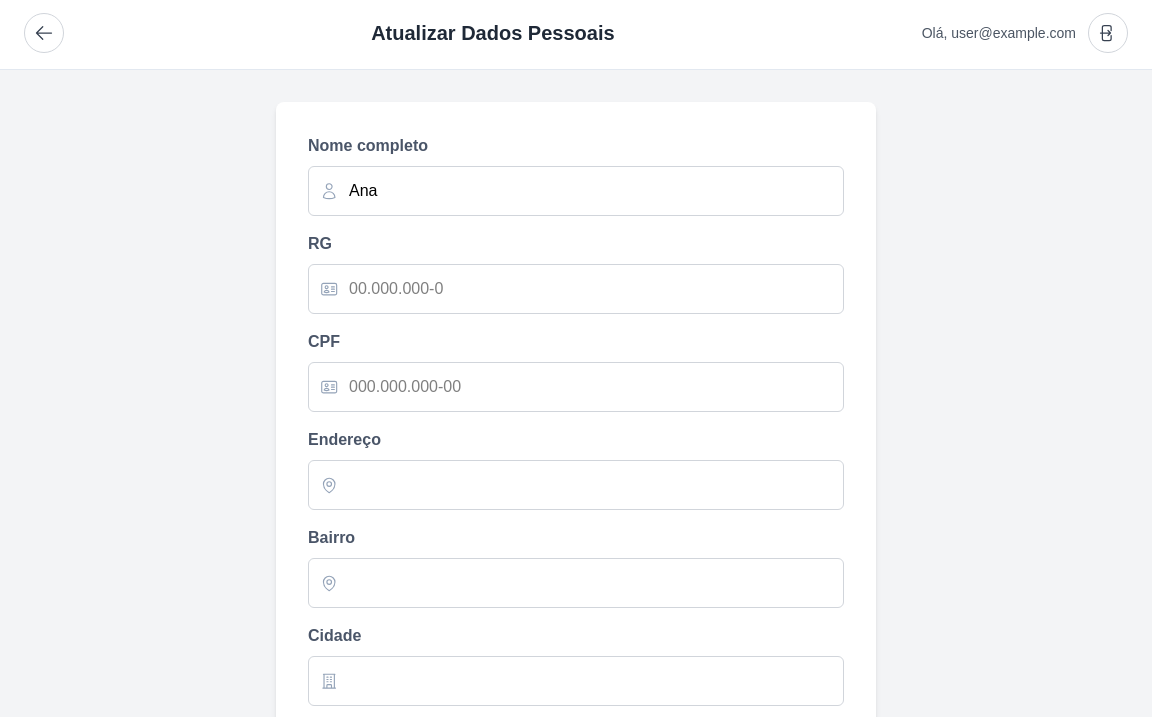
UpdatePage › submits the updated record
Step 1. Replace the text in the field labelled "Nome completo" with "Ana Souza" → (576, 191), box x1=308 y1=166 x2=844 y2=216
(page scrolled)
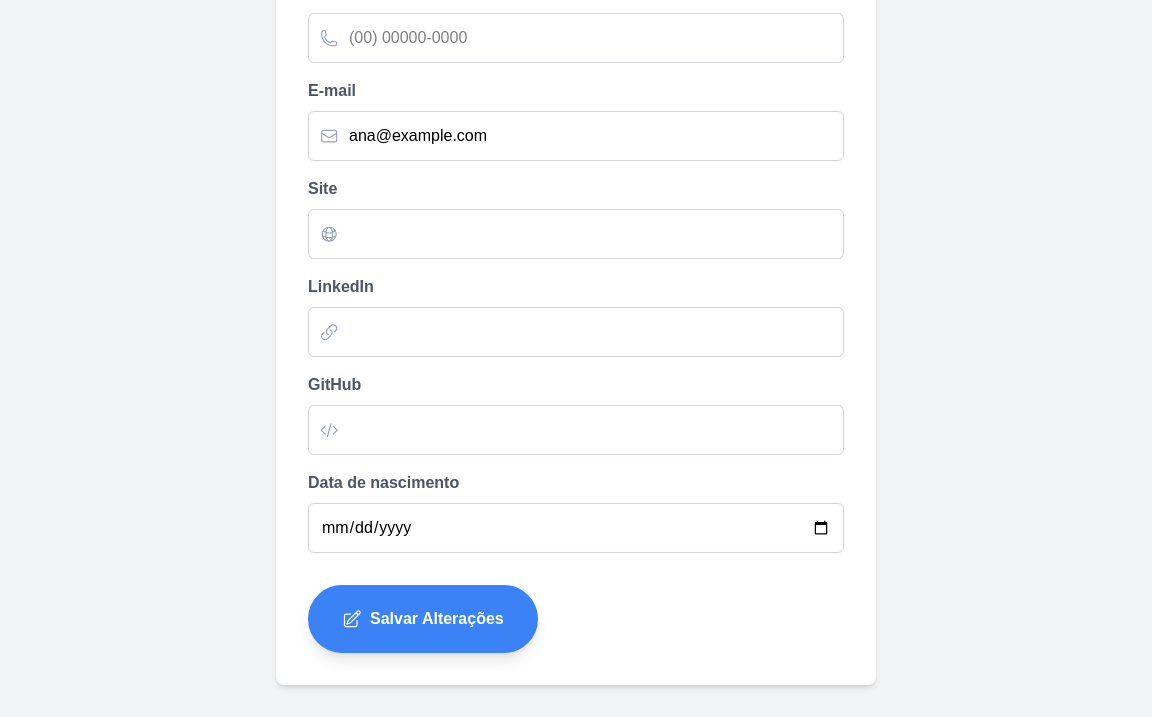
Step 2. Click the button "Salvar Alterações" → (423, 619), box x1=308 y1=585 x2=538 y2=653
(page scrolled)
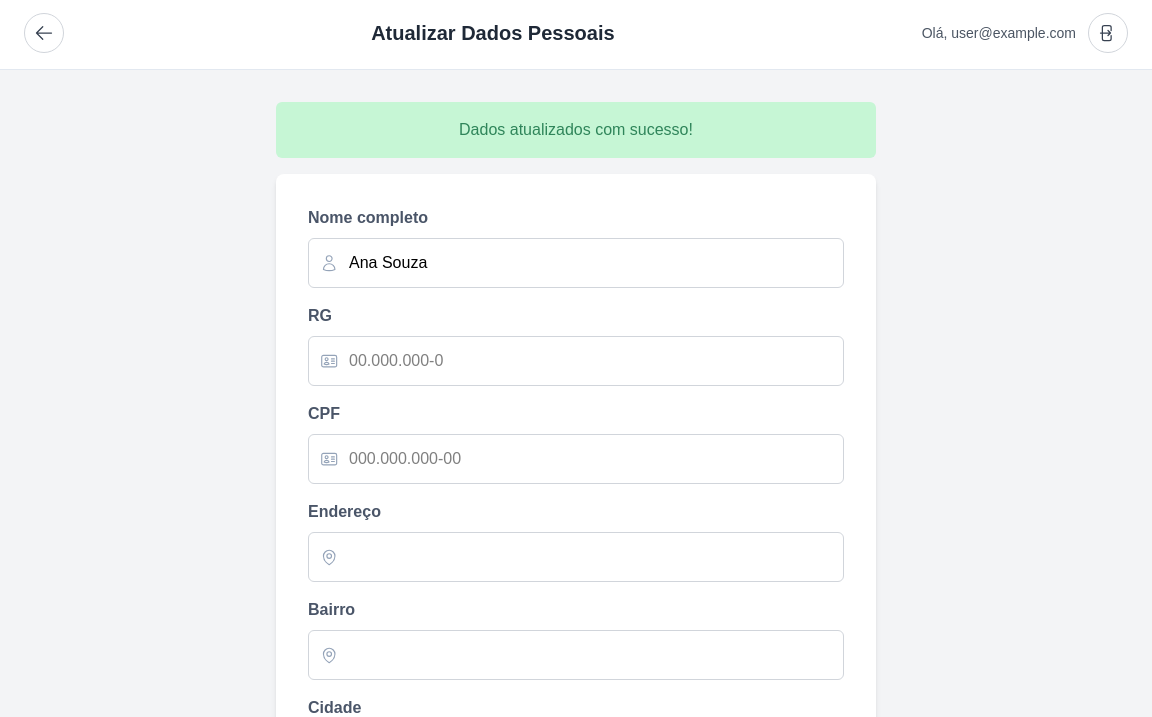
Expected: the text "Dados atualizados com sucesso!" is shown, x1=276 y1=102 x2=876 y2=158
